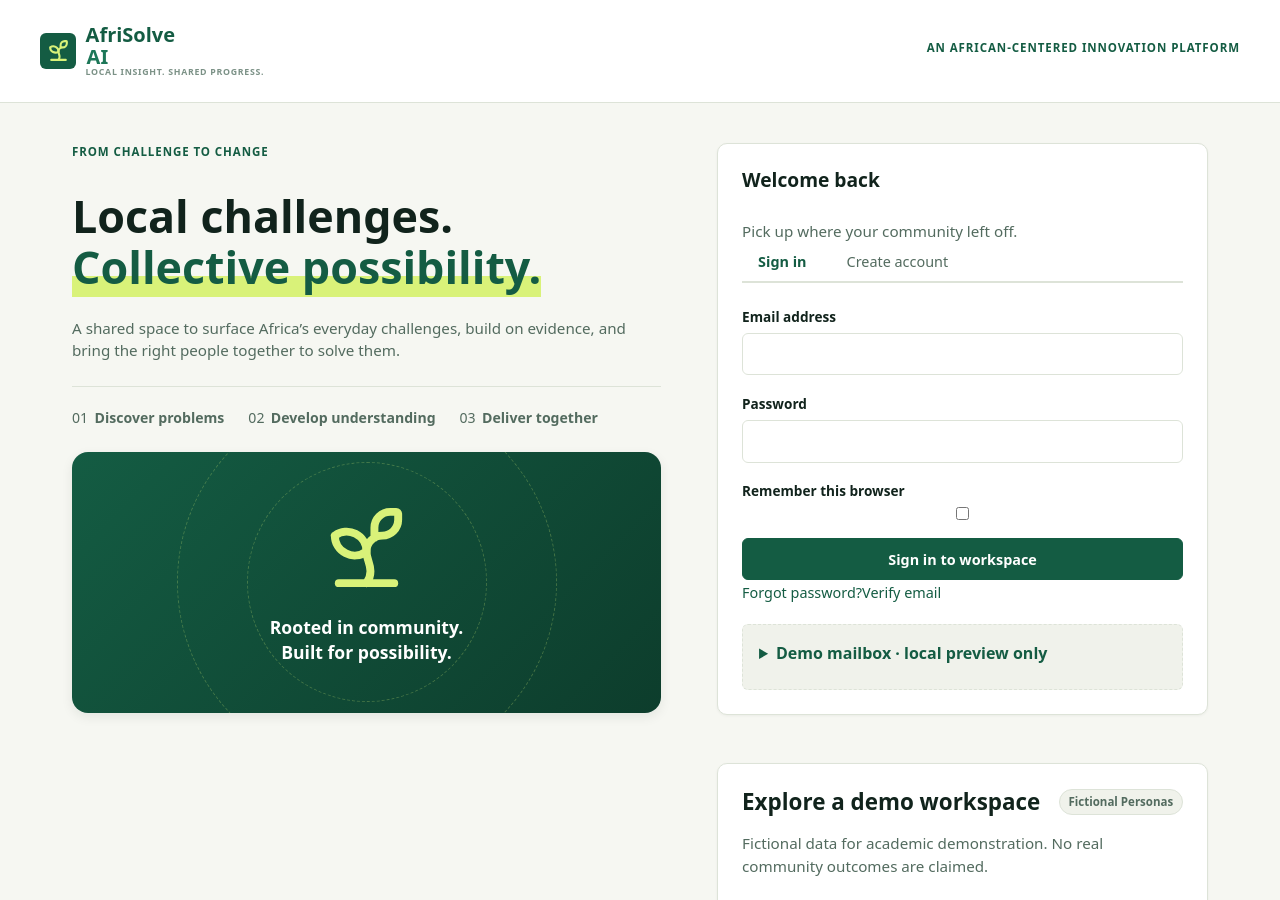
Test: registration submits a real account and recovery uses a token
Click the button "Create account" at (897, 263), box [830,242,964,283]
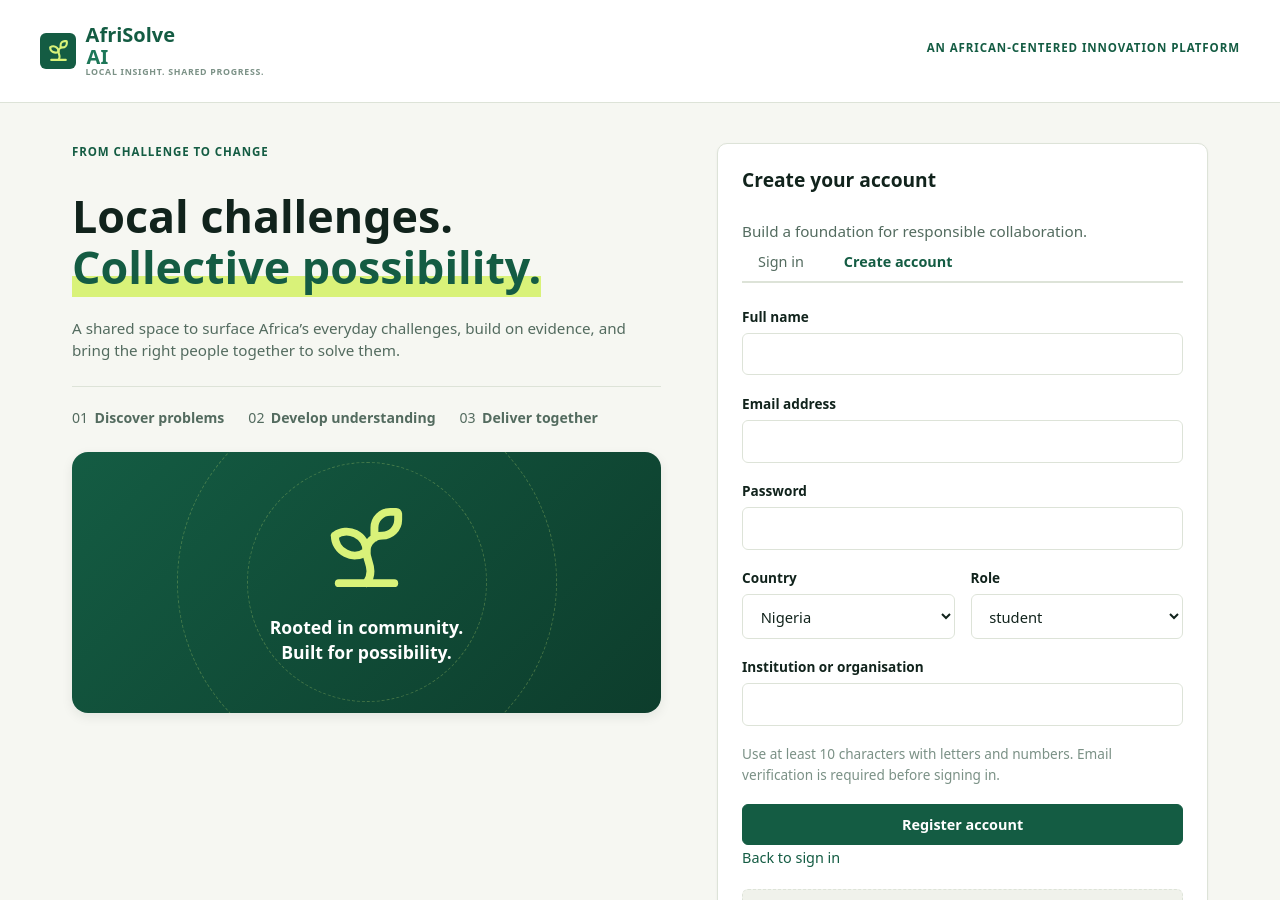
Type "Ada Demo" into the field labelled "Full name" at (963, 354), box [742,333,1183,375]
Type "ada@afrisolve.demo" into the field labelled "Email address" at (963, 441), box [742,420,1183,463]
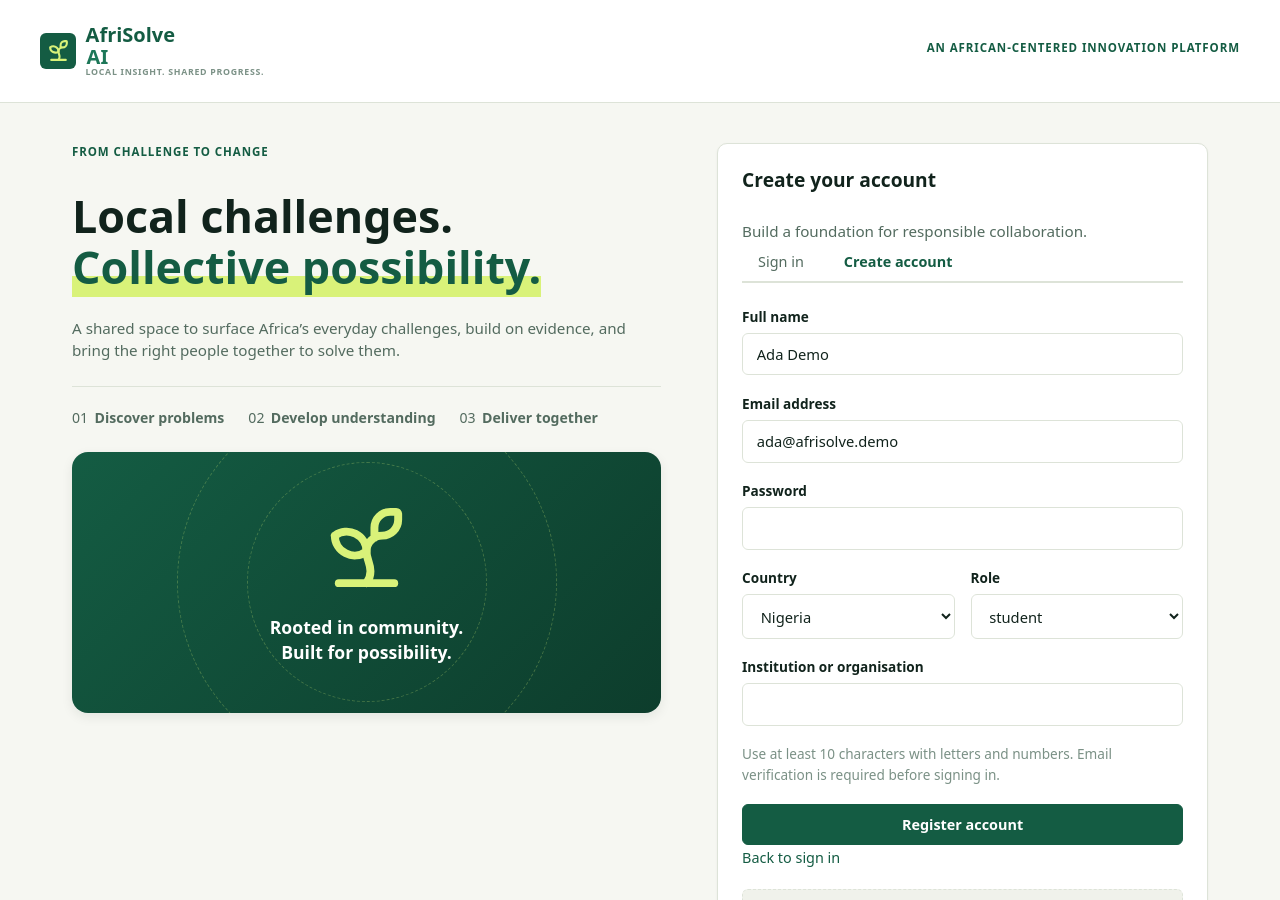
Type "Research123!" into the password field labelled "Password" at (963, 528), box [742,507,1183,550]
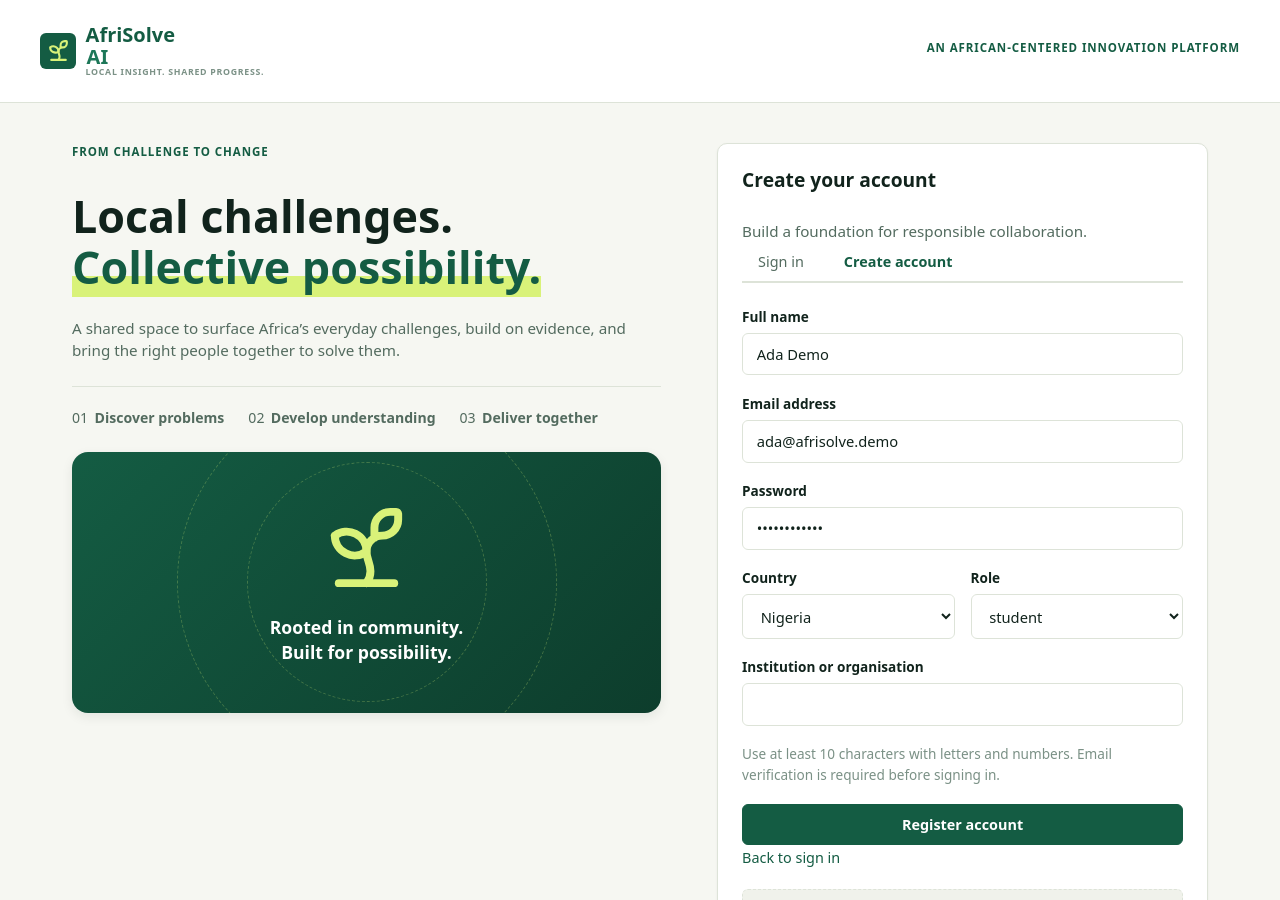
Click the button "Register account" at (963, 824), box [742,804,1183,845]
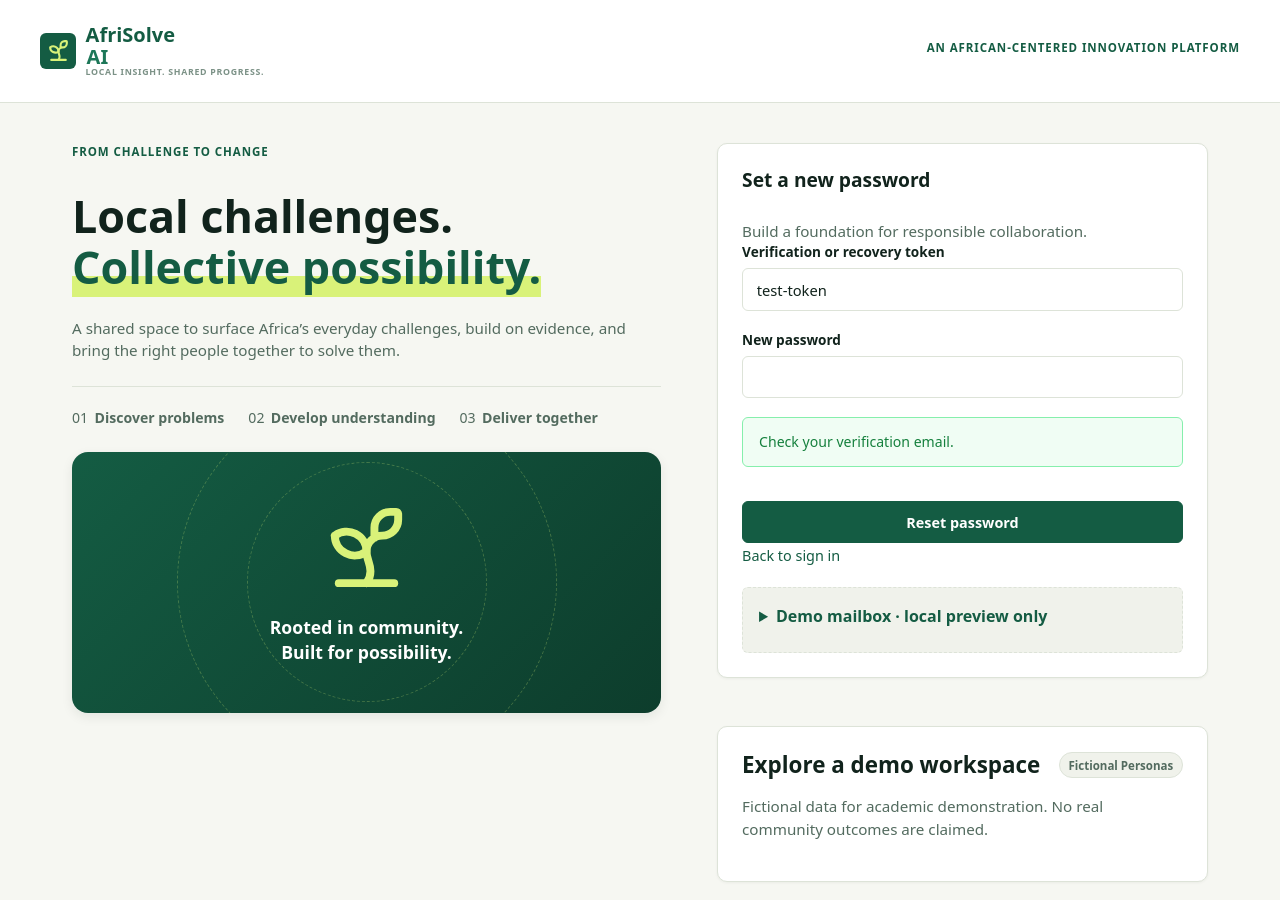
Check: the text "Check your verification email." is shown, box [742,417,1183,467]
Type "Changed123!" into the password field labelled "New password" at (963, 377), box [742,356,1183,398]
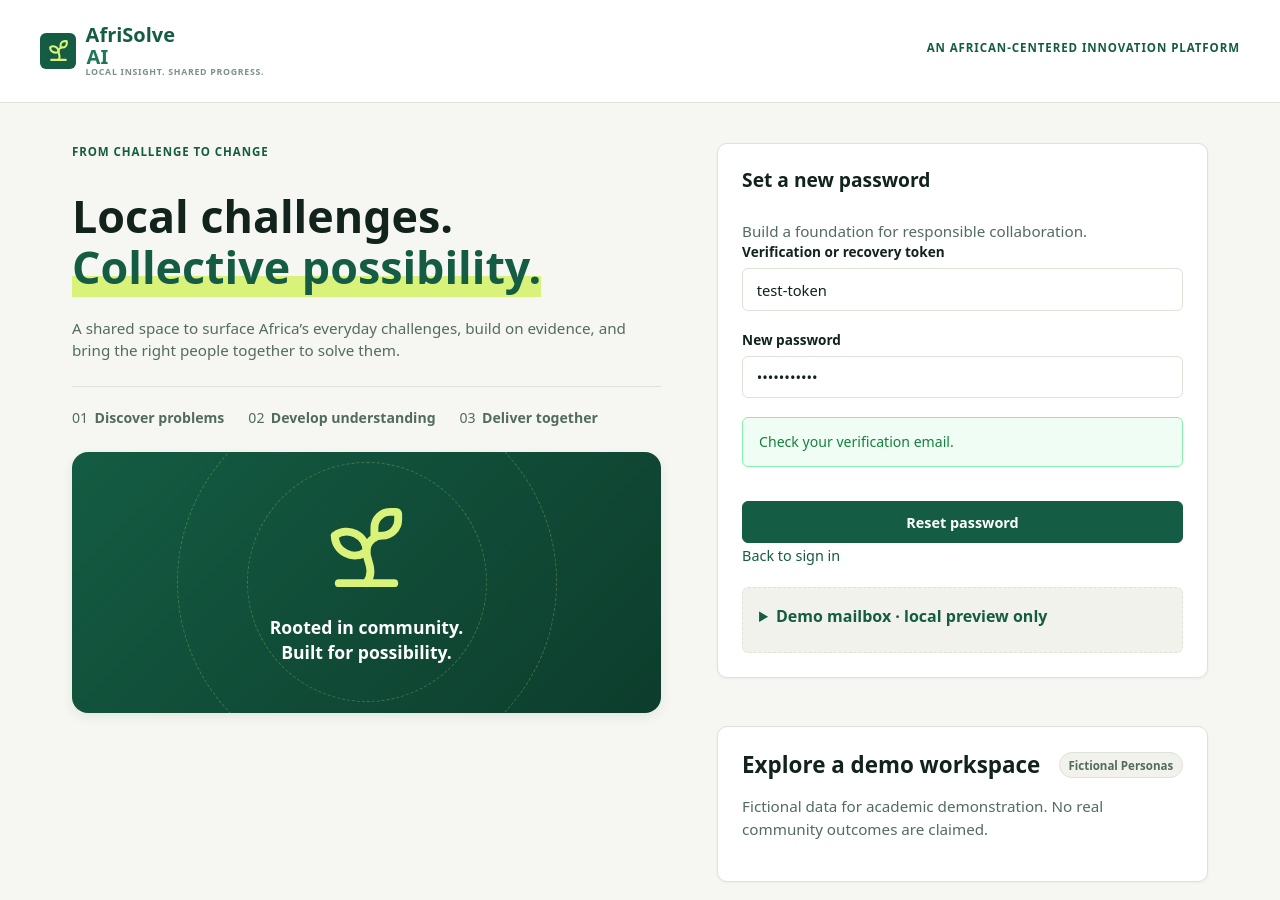
Click the button "Reset password" at (963, 522), box [742,502,1183,543]
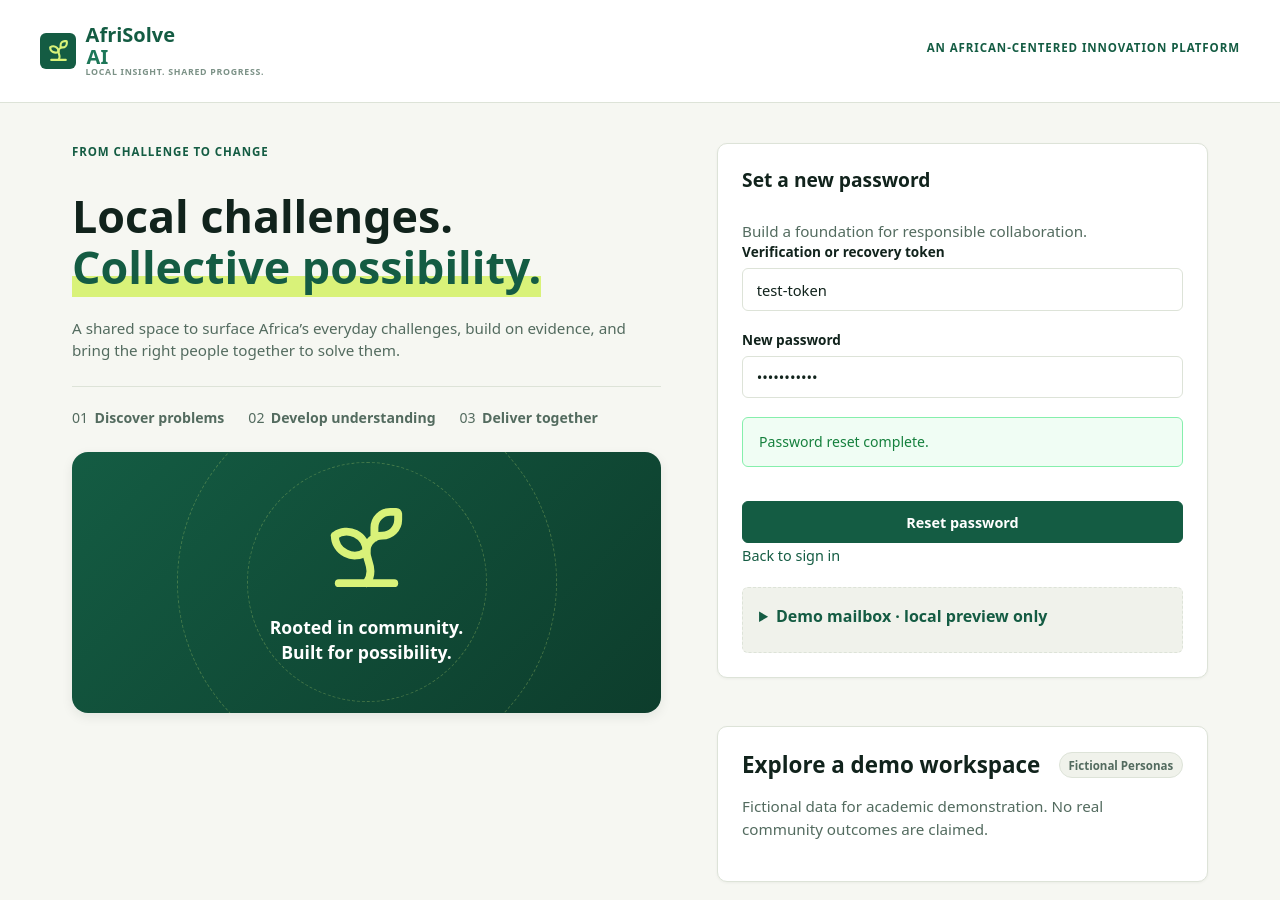
Check: the text "Password reset complete." is shown, box [742,417,1183,467]
